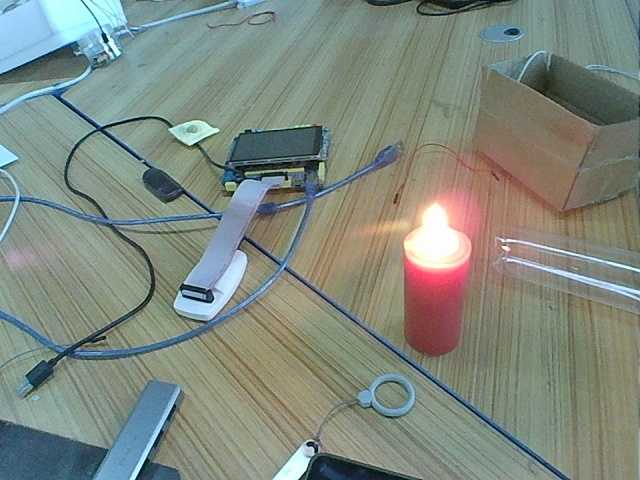candle: (404, 255, 472, 354)
fire: (408, 201, 462, 256)
